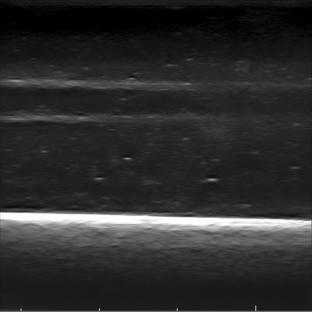vessel: (1, 78, 130, 128)
